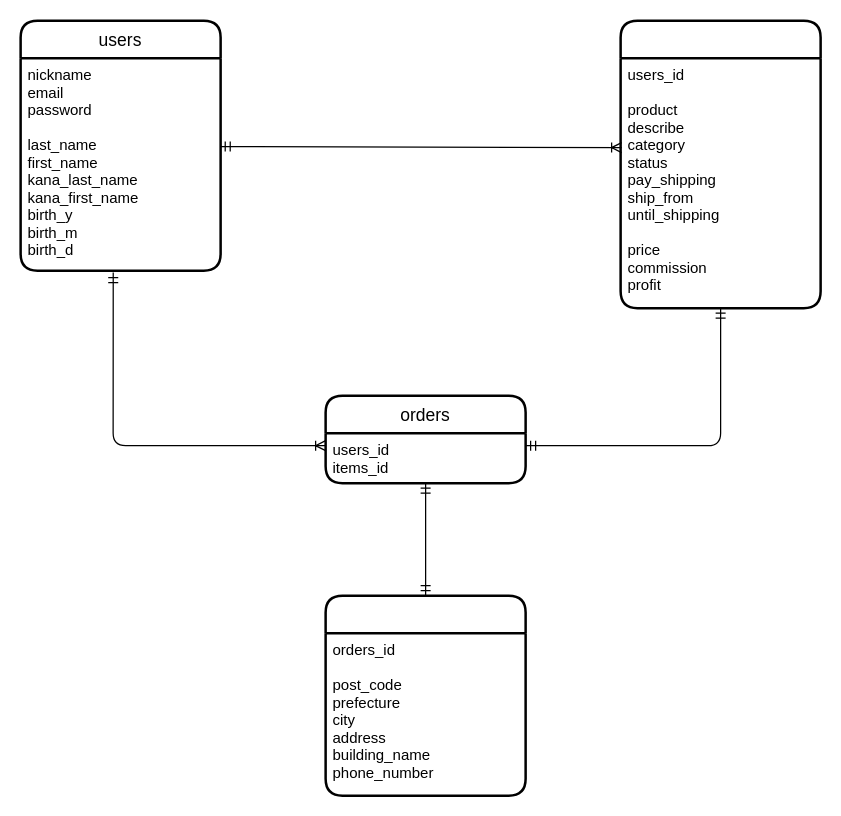
This 841x816 diagram has some shape labels left out. Each missing label, with the box of its shape:
addresses: (324, 594, 526, 796)
items: (619, 19, 821, 309)
